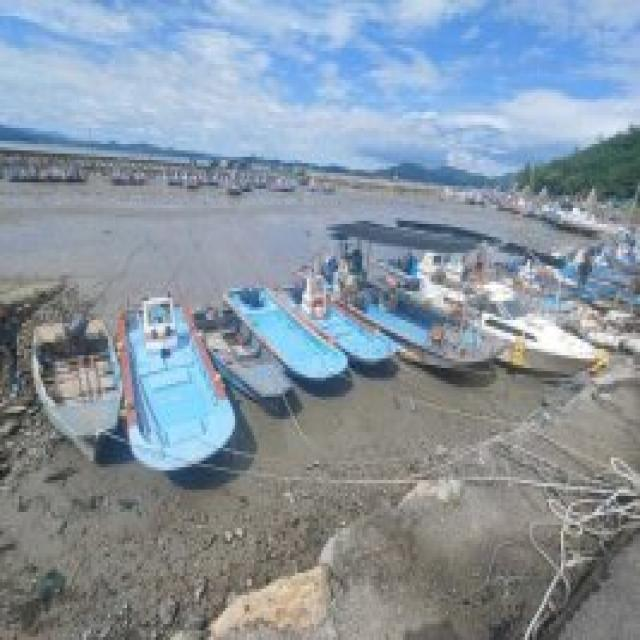Ship: (365, 245, 617, 392), (107, 283, 251, 488), (217, 276, 361, 404)
